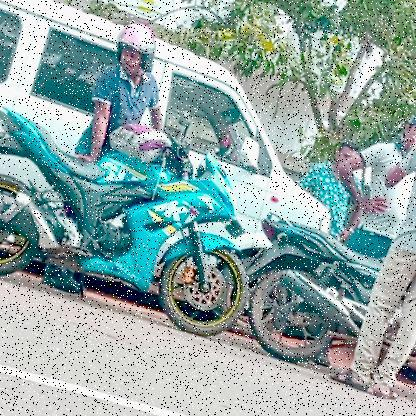motorcycle: (0, 82, 257, 350), (242, 190, 416, 416)
